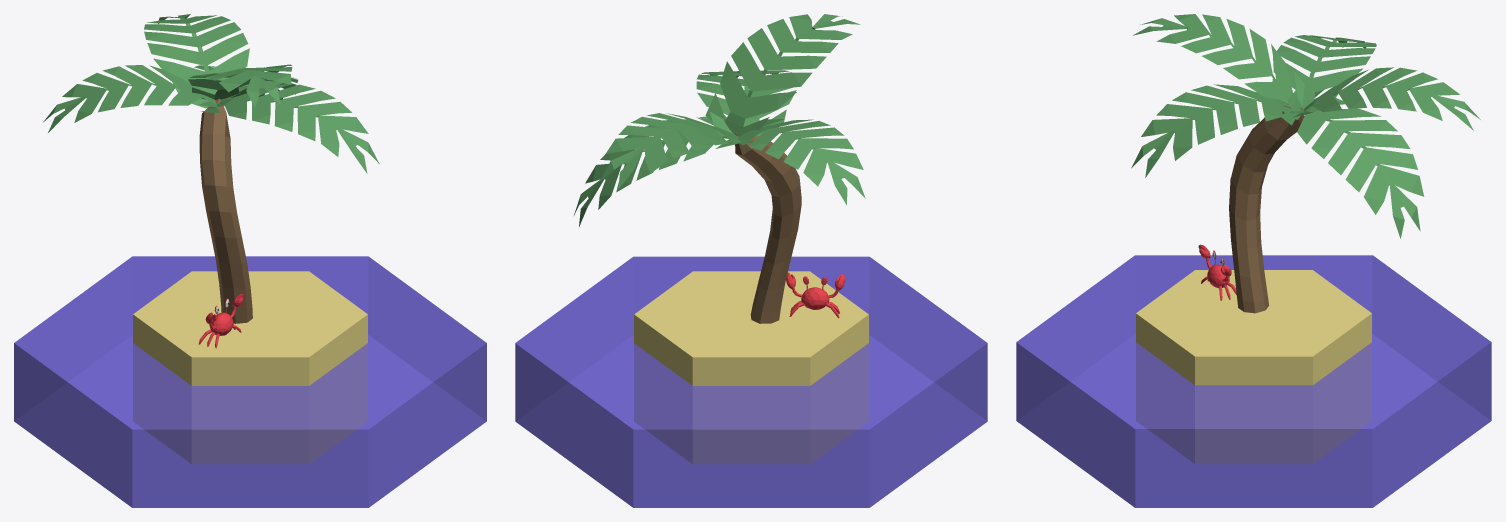
Rendered from HexCell_Beach_Connect_6.glb.
The picture shows the model from 3 angles, left to right: view 1: azimuth 30°, elevation 25°; view 2: azimuth 150°, elevation 25°; view 3: azimuth 270°, elevation 25°; orthographic projection.
Visible parts, largest first — view 1: HexCell_Beach_Connect_6; view 2: HexCell_Beach_Connect_6; view 3: HexCell_Beach_Connect_6.
Boxes of the visible parts, x1=… form: HexCell_Beach_Connect_6: x1=14, y1=14, x2=486, y2=507; HexCell_Beach_Connect_6: x1=515, y1=14, x2=987, y2=507; HexCell_Beach_Connect_6: x1=1016, y1=14, x2=1491, y2=507.
Size of the model in its own units: 1.73 by 1.76 by 2.
